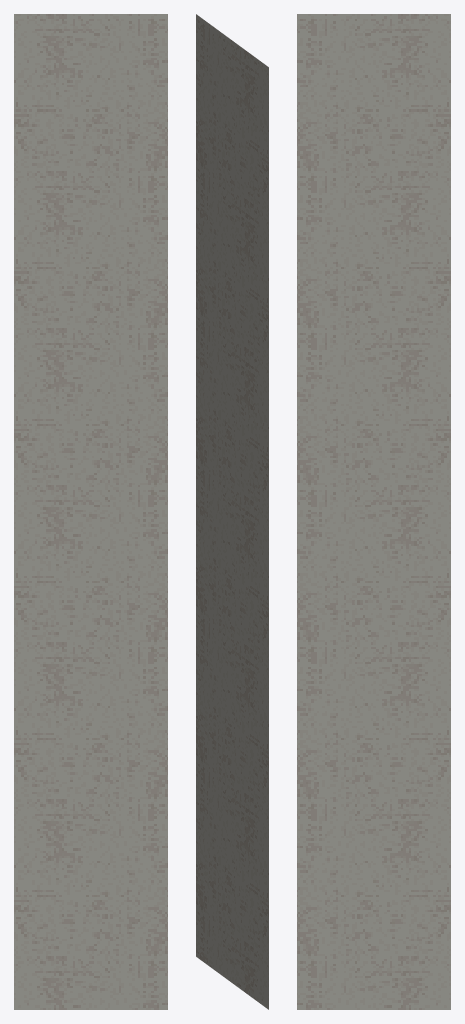
Rendered from kd_stage_135c43_4_30_bounded_piece_10.glb.
The picture shows the model from 3 angles, left to right: view 1: azimuth 90°, elevation 25°; view 2: azimuth 210°, elevation 25°; view 3: azimuth 270°, elevation 25°; orthographic projection. The views are drawn at different scales.
Visible parts, largest first — view 1: kd_stage_135c43_4_30_bounded_piece_10; view 2: kd_stage_135c43_4_30_bounded_piece_10; view 3: kd_stage_135c43_4_30_bounded_piece_10.
Part boxes in pixels (x1=…): kd_stage_135c43_4_30_bounded_piece_10: x1=14, y1=14, x2=167, y2=1009; kd_stage_135c43_4_30_bounded_piece_10: x1=196, y1=14, x2=268, y2=1009; kd_stage_135c43_4_30_bounded_piece_10: x1=297, y1=14, x2=450, y2=1009.
Size of the model in its own units: 4.77e-07 by 2.46 by 0.3442.
1 material, 1 textured.
